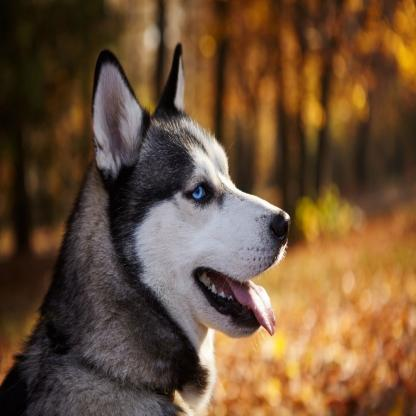dog: (1, 40, 292, 416)
